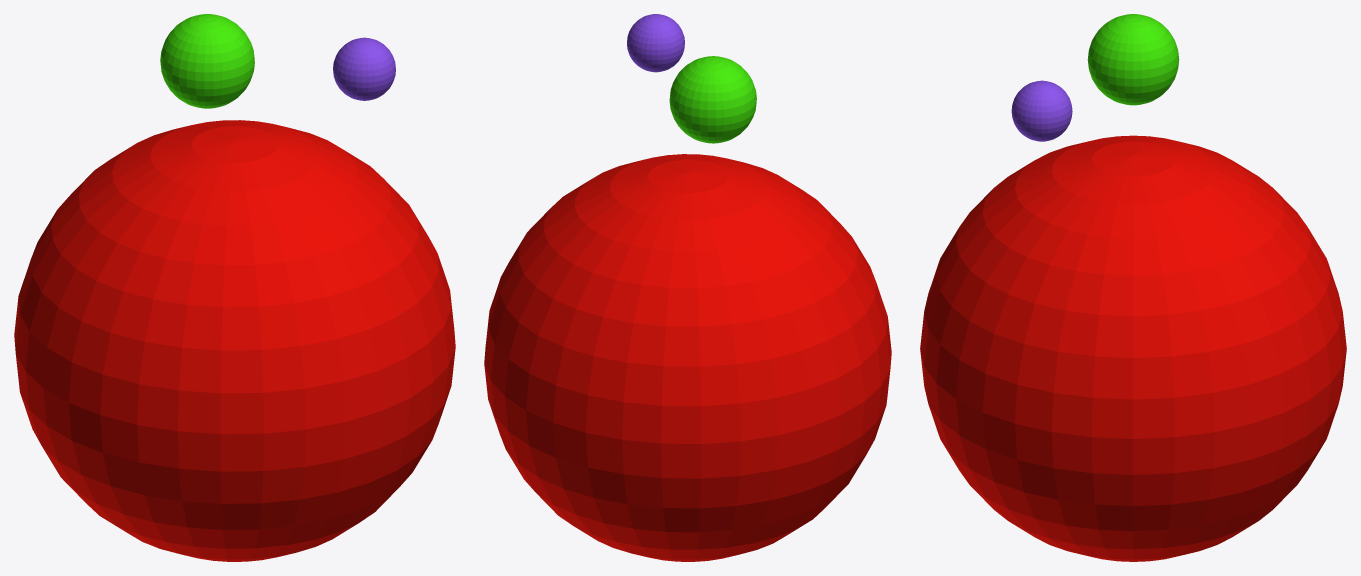
Rendered from spheres_color_working.dae.
The picture shows the model from 3 angles, left to right: view 1: azimuth 30°, elevation 25°; view 2: azimuth 150°, elevation 25°; view 3: azimuth 270°, elevation 25°; orthographic projection. The views are drawn at different scales.
Visible parts, largest first — view 1: Sphere, Sphere.001, Sphere.002; view 2: Sphere, Sphere.001, Sphere.002; view 3: Sphere, Sphere.001, Sphere.002.
Part boxes in pixels (bbox=[...]): Sphere: bbox=[14, 120, 455, 561]; Sphere.001: bbox=[160, 14, 254, 108]; Sphere.002: bbox=[333, 37, 395, 100]; Sphere: bbox=[484, 154, 891, 561]; Sphere.001: bbox=[669, 56, 756, 143]; Sphere.002: bbox=[627, 14, 684, 72]; Sphere: bbox=[920, 135, 1346, 561]; Sphere.001: bbox=[1087, 14, 1179, 105]; Sphere.002: bbox=[1011, 80, 1072, 141].
Bounding box in the file's own units: 1.4 × 1.4 × 1.85.
